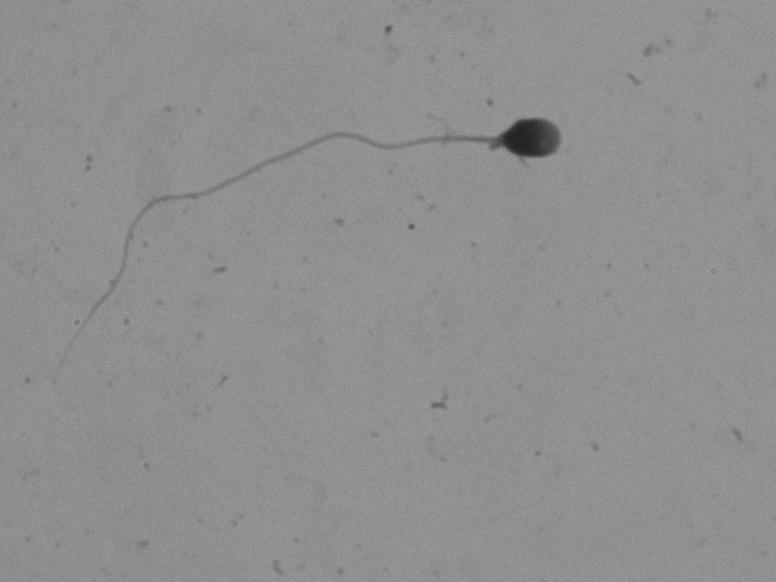Normal: (42, 85, 607, 406)
